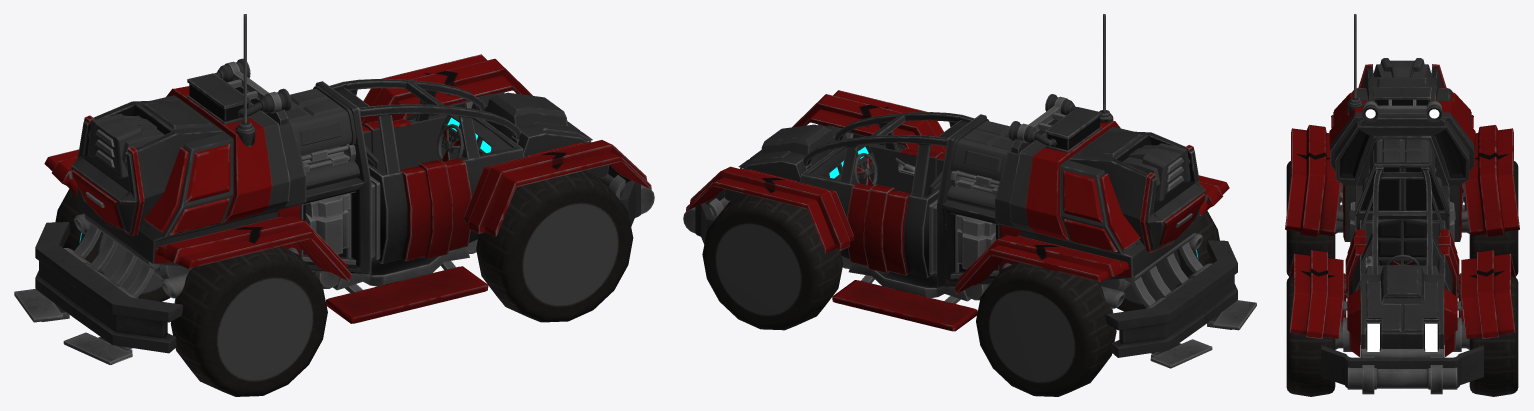
File: SM_Vehicle_Racer.fbx
The picture shows the model from 3 angles, left to right: view 1: azimuth 30°, elevation 25°; view 2: azimuth 150°, elevation 25°; view 3: azimuth 270°, elevation 25°; orthographic projection. The views are drawn at different scales.
Visible parts, largest first — view 1: CarBody_Mesh, lowpoly_wheel_Mesh, Steer_wheel_mesh; view 2: CarBody_Mesh, lowpoly_wheel_Mesh, Steer_wheel_mesh; view 3: CarBody_Mesh, lowpoly_wheel_Mesh, Steer_wheel_mesh.
Boxes of the visible parts, bbox=[...] form: CarBody_Mesh: bbox=[14, 54, 654, 364]; lowpoly_wheel_Mesh: bbox=[55, 103, 633, 396]; Steer_wheel_mesh: bbox=[235, 14, 464, 161]; CarBody_Mesh: bbox=[683, 90, 1256, 368]; lowpoly_wheel_Mesh: bbox=[702, 134, 1219, 396]; Steer_wheel_mesh: bbox=[853, 14, 1113, 185]; CarBody_Mesh: bbox=[1285, 58, 1519, 394]; lowpoly_wheel_Mesh: bbox=[1286, 161, 1518, 396]; Steer_wheel_mesh: bbox=[1347, 14, 1419, 270].
Size of the model in its own units: 422 by 193 by 245.
Materials: 1 (1 with a texture image).
